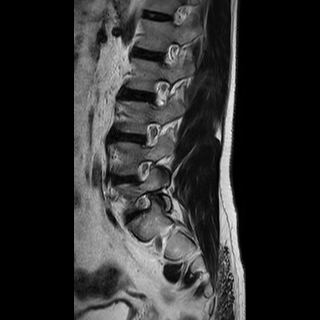LFS0: (156, 35, 185, 74), (146, 74, 173, 114), (129, 154, 157, 190), (139, 116, 164, 156), (127, 190, 157, 223)
